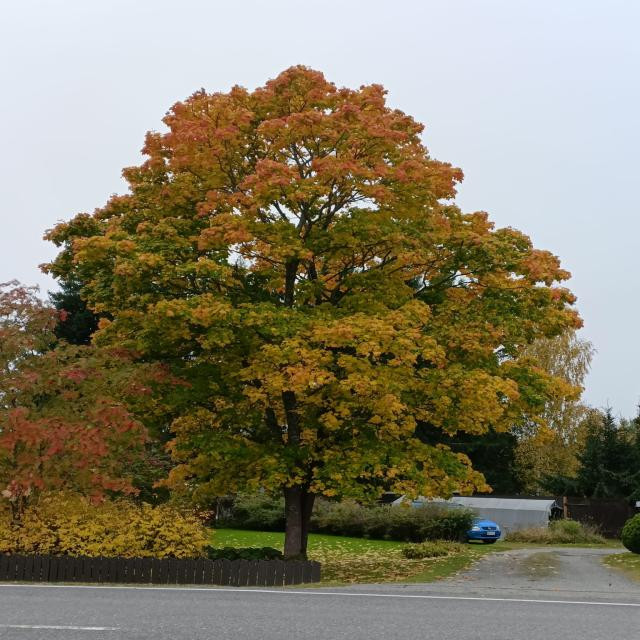Tree-detection: (32, 59, 590, 559), (0, 275, 207, 577)
